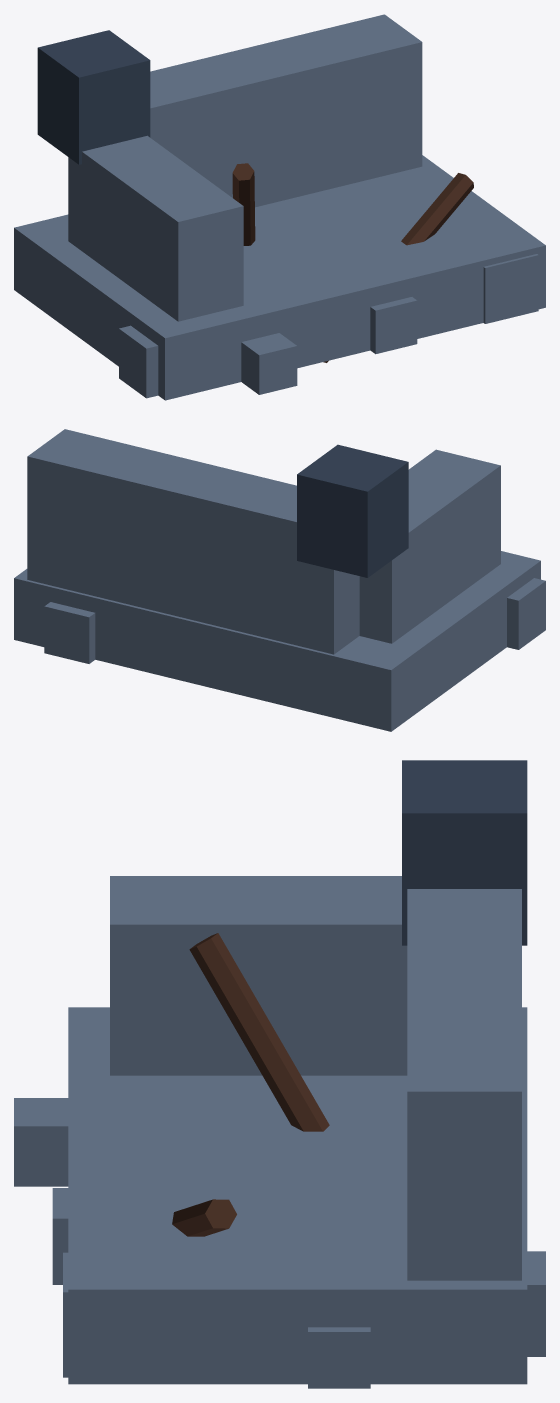
The model's file is kitovu_ruina.glb.
3 views of the same model, one above another, from view 1: azimuth 30°, elevation 25°; view 2: azimuth 150°, elevation 25°; view 3: azimuth 270°, elevation 25° (orthographic). The views are drawn at different scales.
Parts seen in each view (by area): view 1: Cube, Cube.001, Cube.002, Cube.003, Cube.005, Cube.007, Cube.004, Cube.008, Cylinder.001, Cylinder; view 2: Cube.001, Cube, Cube.002, Cube.003, Cube.006, Cube.004; view 3: Cube, Cube.002, Cube.001, Cube.003, Cylinder, Cube.007, Cube.009, Cube.006, Cylinder.001, Cube.008, Cube.005.
Part boxes in pixels (box(x1,y1,x2,y2)): Cube: box(14, 155, 545, 400); Cube.001: box(150, 14, 422, 207); Cube.002: box(68, 135, 243, 321); Cube.003: box(37, 30, 150, 164); Cube.005: box(483, 254, 538, 323); Cube.007: box(241, 333, 297, 394); Cube.004: box(119, 325, 158, 398); Cube.008: box(370, 297, 417, 354); Cylinder.001: box(323, 173, 473, 362); Cylinder: box(232, 163, 255, 245); Cube.001: box(27, 429, 359, 654); Cube: box(14, 551, 540, 731); Cube.002: box(359, 449, 500, 643); Cube.003: box(297, 444, 408, 577); Cube.006: box(44, 602, 95, 663); Cube.004: box(507, 578, 545, 649); Cube: box(68, 1007, 527, 1384); Cube.002: box(110, 876, 407, 1075); Cube.001: box(407, 889, 521, 1280); Cube.003: box(402, 760, 527, 945); Cylinder: box(189, 933, 329, 1131); Cube.007: box(14, 1098, 68, 1186); Cube.009: box(308, 1327, 370, 1388); Cube.006: box(527, 1251, 545, 1356); Cylinder.001: box(172, 1199, 236, 1236); Cube.008: box(52, 1188, 68, 1284); Cube.005: box(63, 1252, 68, 1377).
Bounding box in the file's own units: 3.35 × 2.07 × 2.55.
